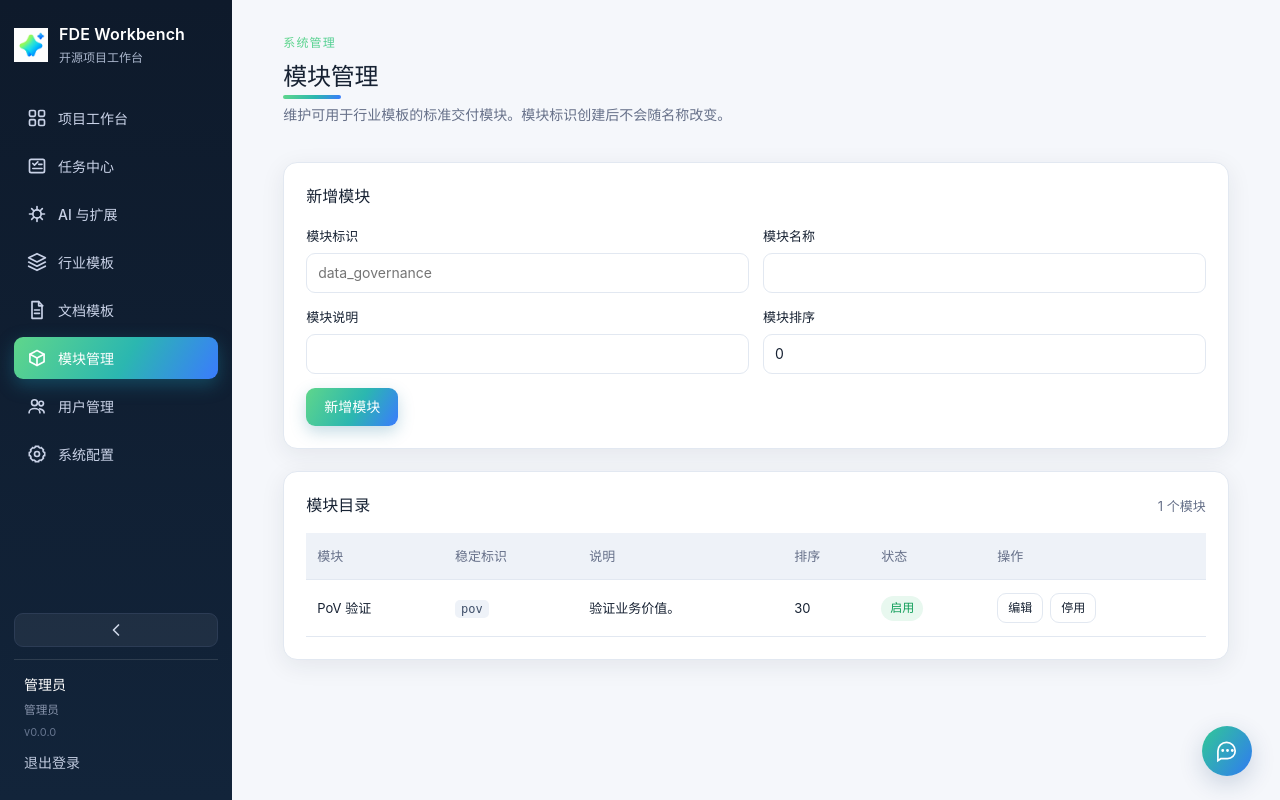
it: 模块目录管理 › 停用前要求输入当前密码并发送状态 PATCH
Click the button with aria-label "停用 PoV 验证".
click(1073, 608)  # box [1050,593,1096,623]
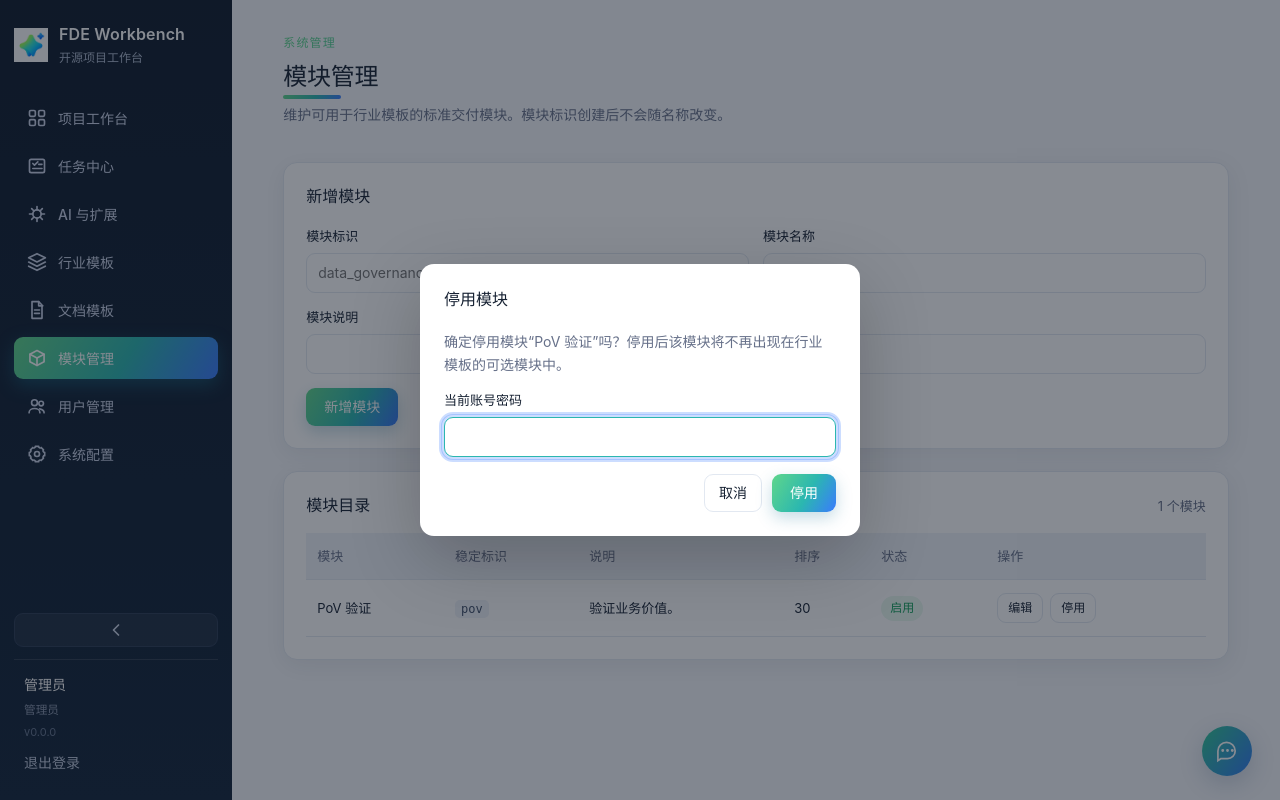
Type "AdminPass!123" into the password field labelled "当前账号密码".
click(640, 437); type("AdminPass!123")  # box [444,417,836,457]
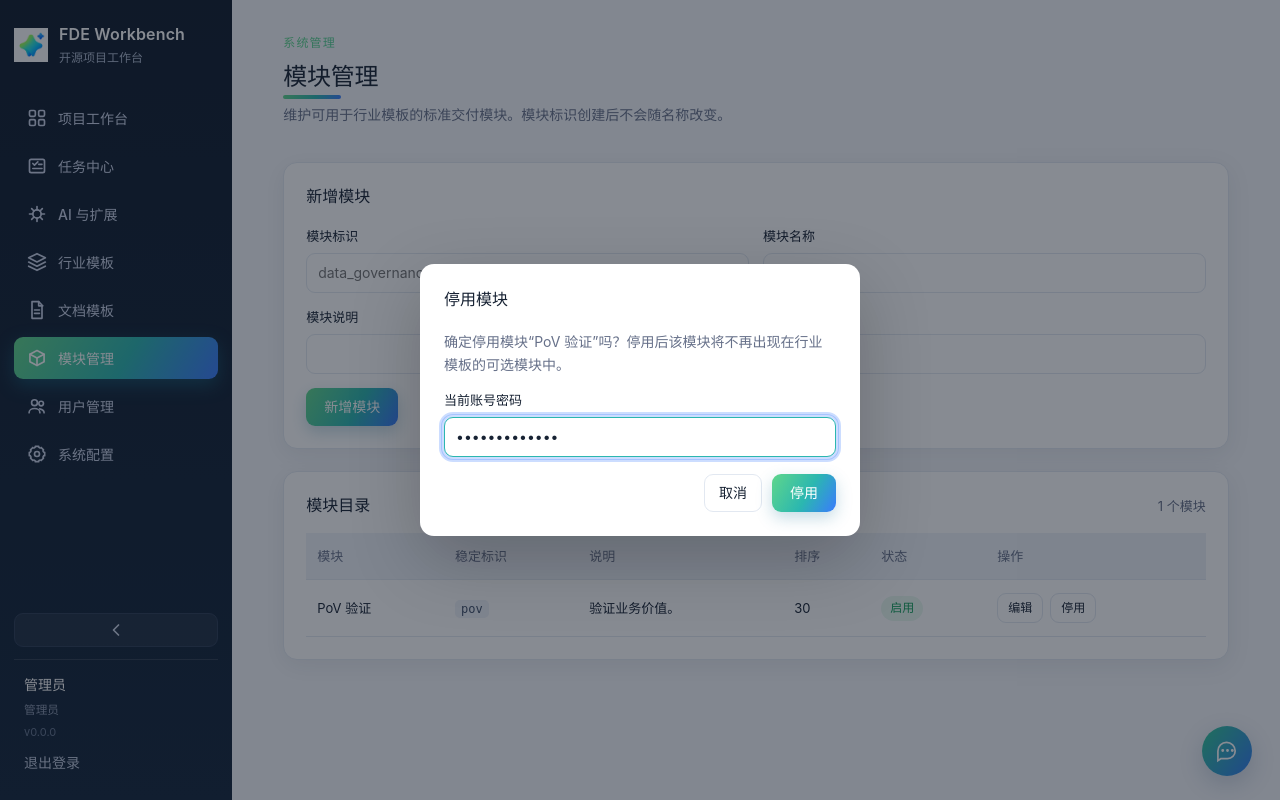
Click the button "停用".
click(804, 493)  # box [772,474,836,512]
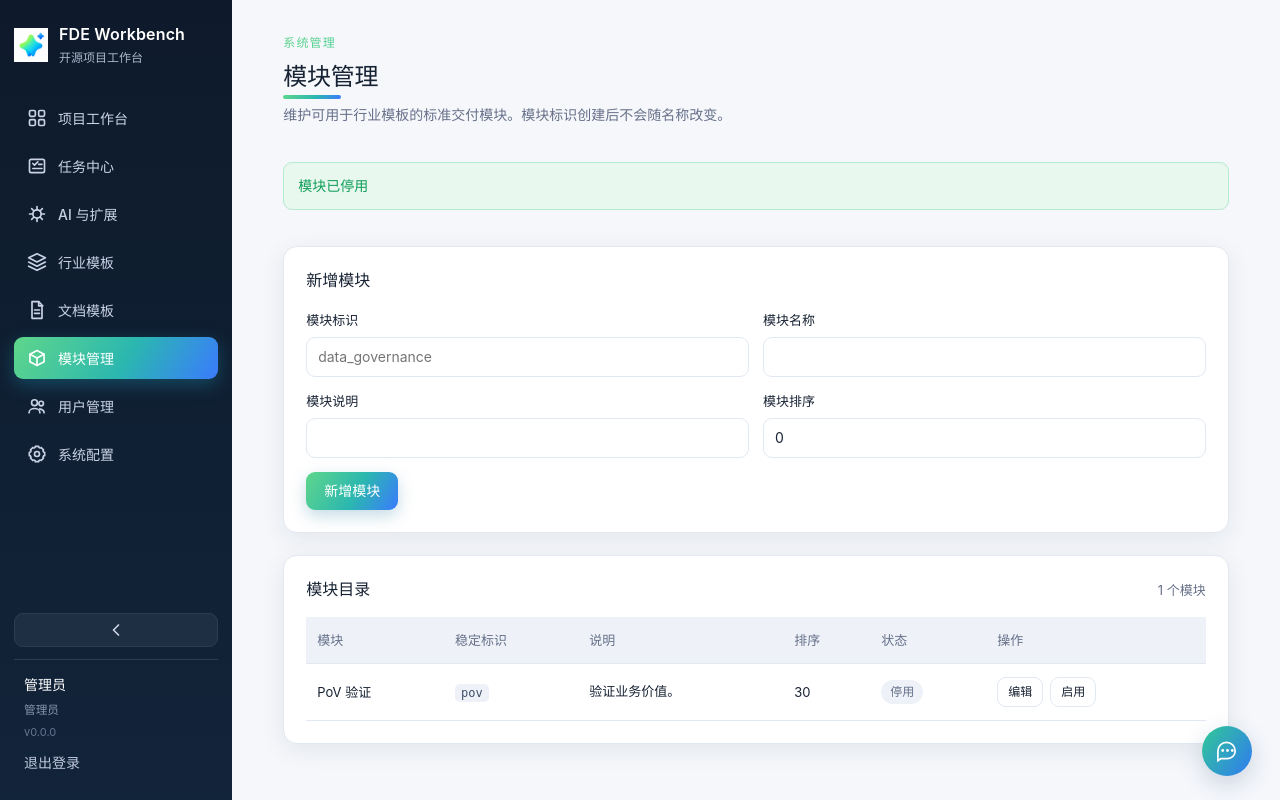
Check: the text "停用" is shown, box [881,680,923,704]
